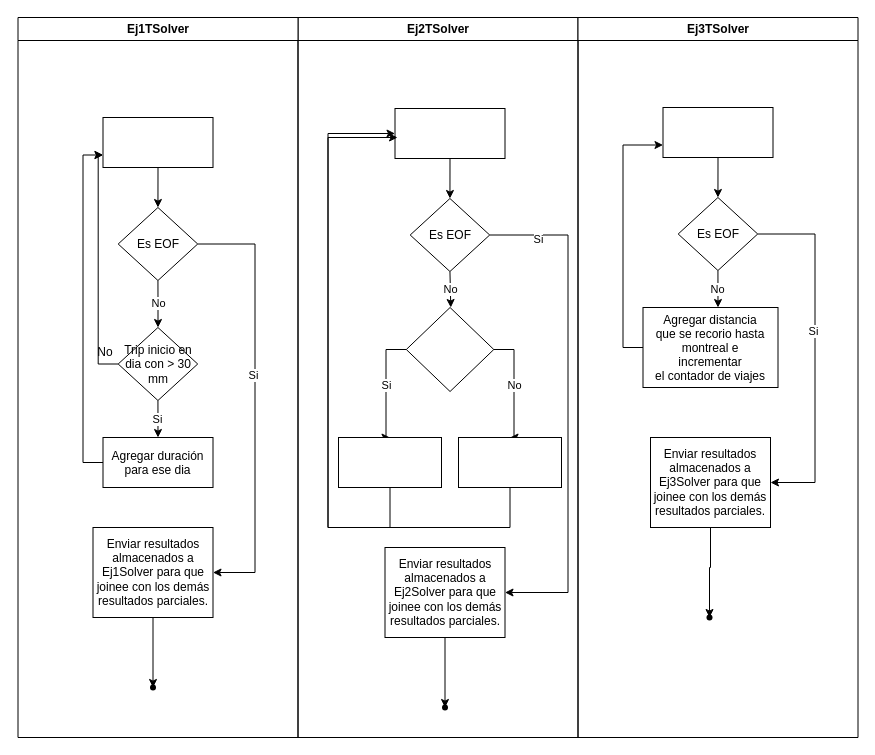
Image size: 875x755. Some labels were removed from this diagram. The centre of each missing label's shape, as x and y in pixels:
"Agregar viaje para esa estacion en 2016" belongs at pixel 390 462.
"Agregar viaje para esa estacion en 2017" belongs at pixel 510 462.
"Ej1tQueue: leer data" belongs at pixel 157 142.
"Ej2tQueue: leer data" belongs at pixel 449 133.
"Ej3tQueue: leer data" belongs at pixel 717 132.
"Trip inicio en 2016" belongs at pixel 449 349.
